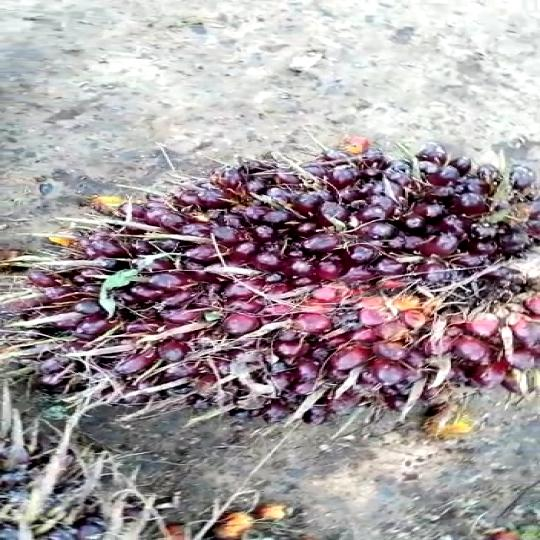kurang masak: (0, 132, 540, 429)
